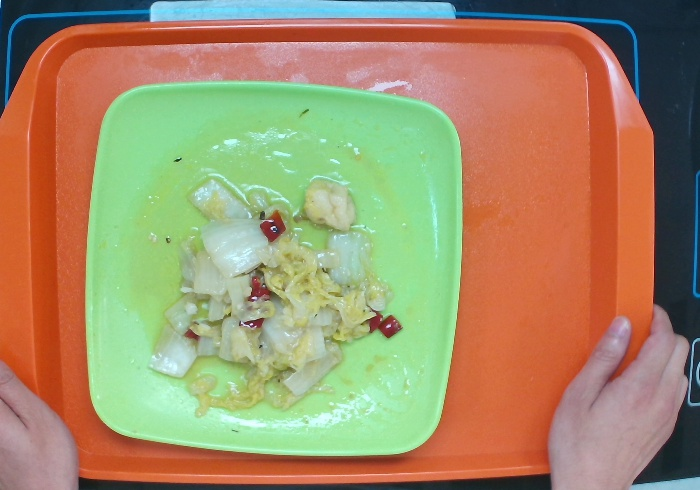ZNLD-Lv_Fang_Pan: (81, 76, 468, 460)
